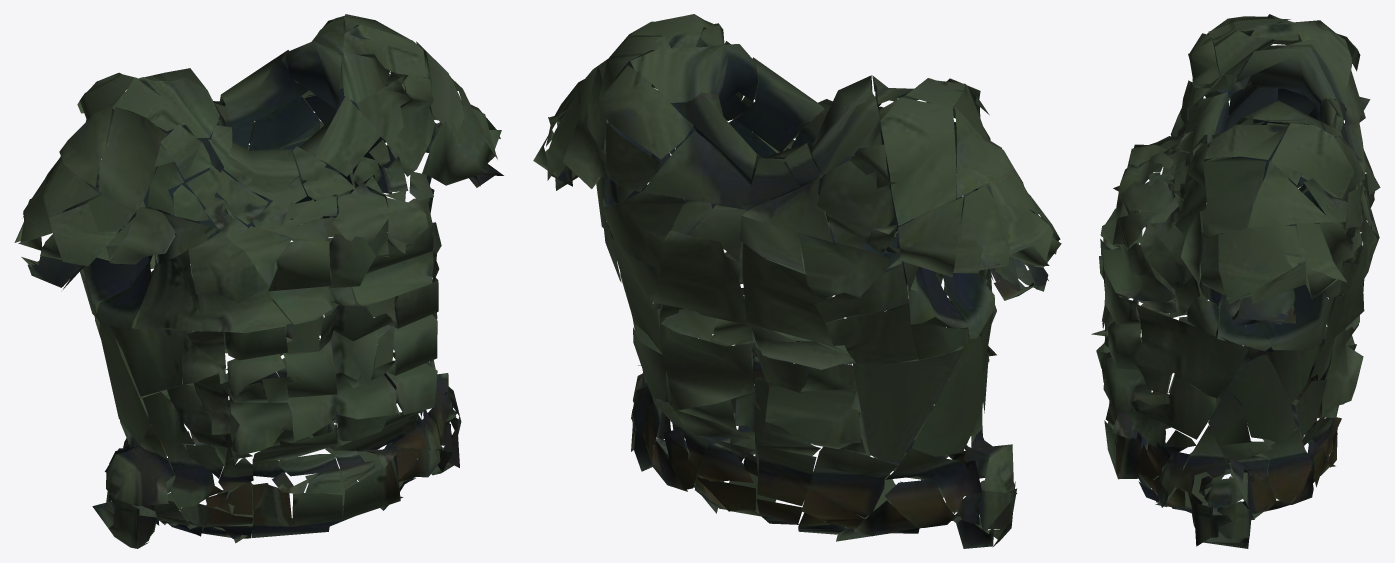
Rendered from armor.glb.
3 views of the same model, side by side, from view 1: azimuth 30°, elevation 25°; view 2: azimuth 150°, elevation 25°; view 3: azimuth 270°, elevation 25° (orthographic). The views are drawn at different scales.
Parts seen in each view (by area): view 1: Mesh_0; view 2: Mesh_0; view 3: Mesh_0.
Boxes of the visible parts, box(x1,y1,x2,y2) form: Mesh_0: box(14, 14, 503, 548); Mesh_0: box(533, 14, 1061, 548); Mesh_0: box(1091, 14, 1380, 548).
Size of the model in its own units: 1.91 by 1.66 by 1.07.
1 material, 1 textured.
